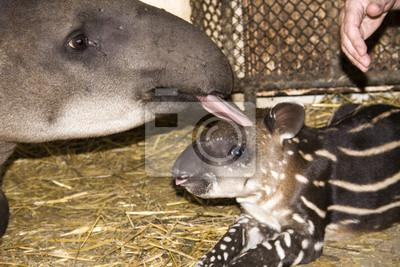Anta: (170, 102, 400, 259), (7, 2, 258, 139)
